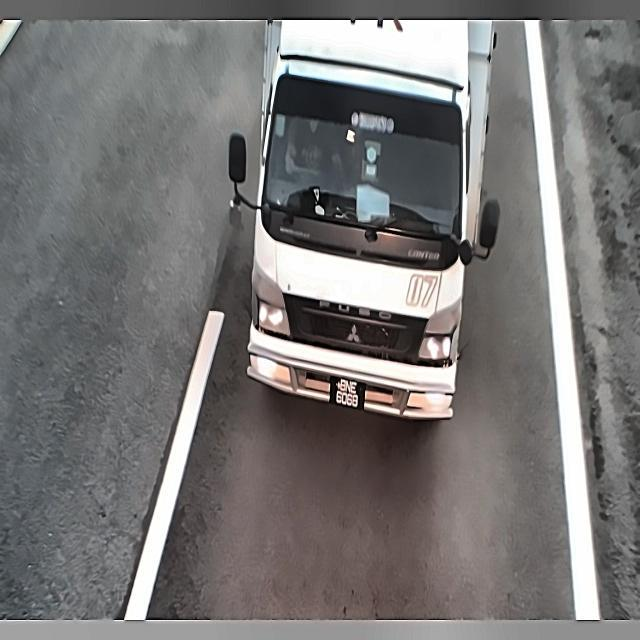car: (326, 374, 369, 415)
